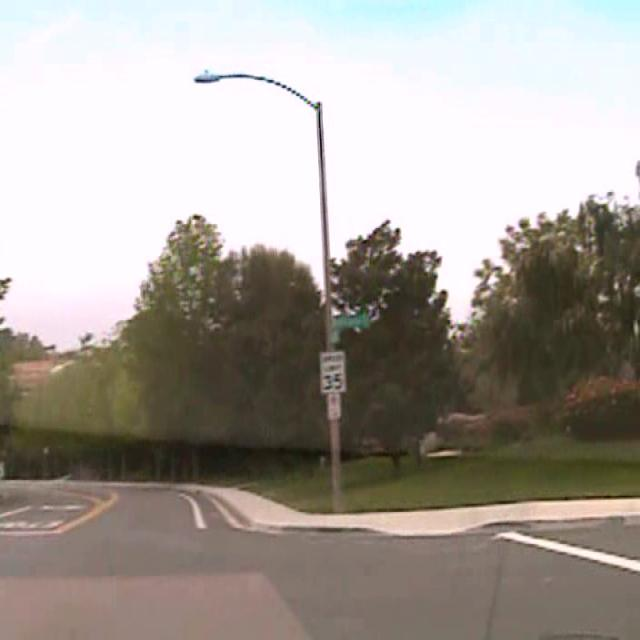speedLimit35: (319, 349, 346, 395)
